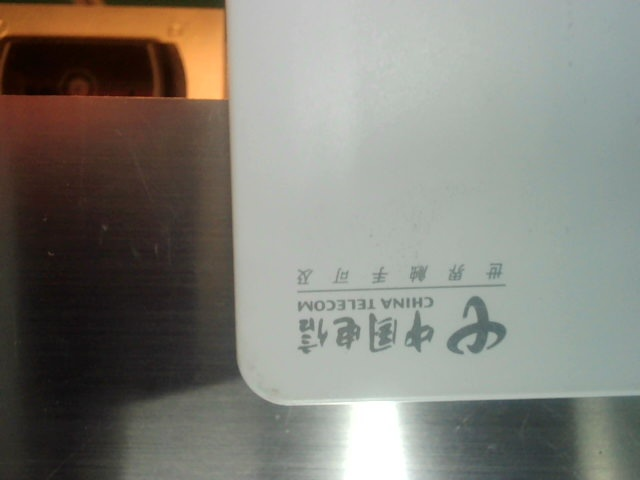AB_ChinaTelecom: (286, 258, 519, 355)
